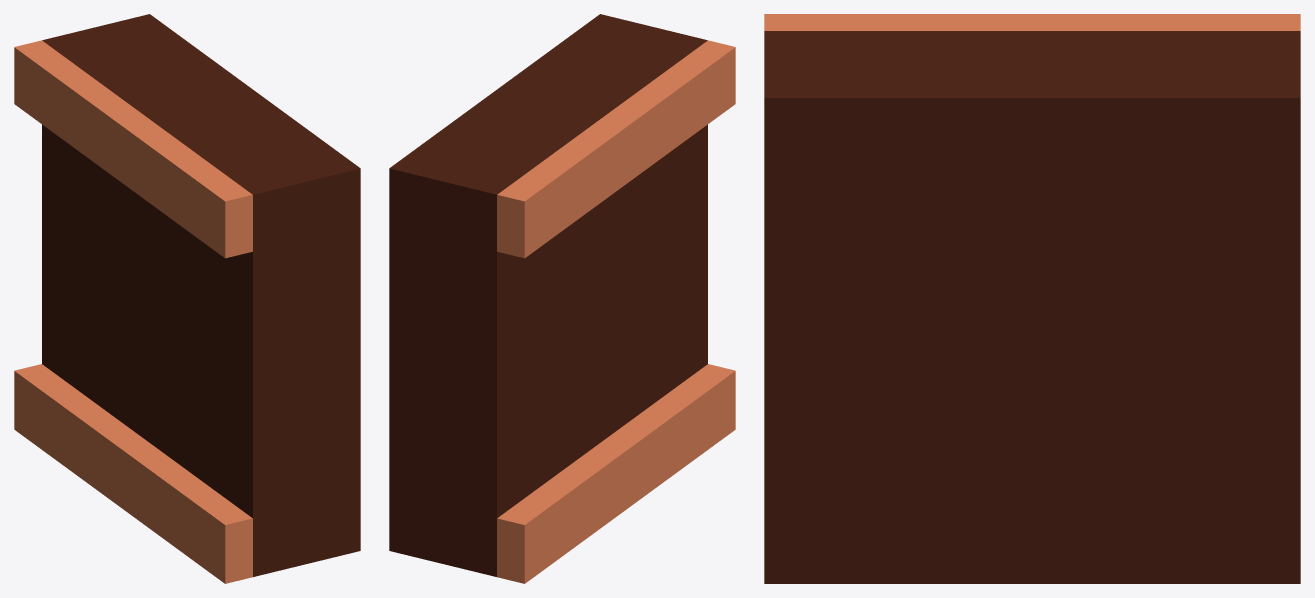
Rendered from Road_long_ill.One.fbx.
The picture shows the model from 3 angles, left to right: view 1: azimuth 30°, elevation 25°; view 2: azimuth 150°, elevation 25°; view 3: azimuth 270°, elevation 25°; orthographic projection. The views are drawn at different scales.
Parts seen in each view (by area): view 1: Cube.018; view 2: Cube.018; view 3: Cube.018.
Part boxes in pixels (x1,y1,x2,y2): Cube.018: [14, 14, 360, 583]; Cube.018: [389, 14, 735, 583]; Cube.018: [764, 14, 1300, 583].
Bounding box in the file's own units: 400 × 400 × 148.
